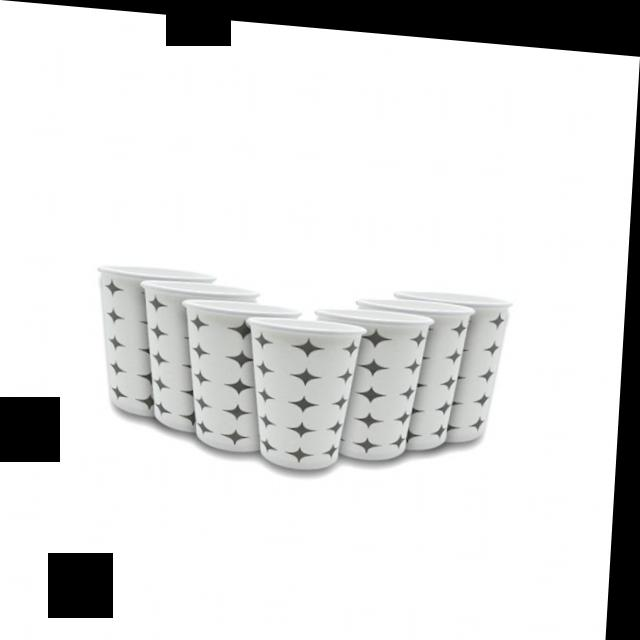karton-bardak: (81, 257, 575, 491)
